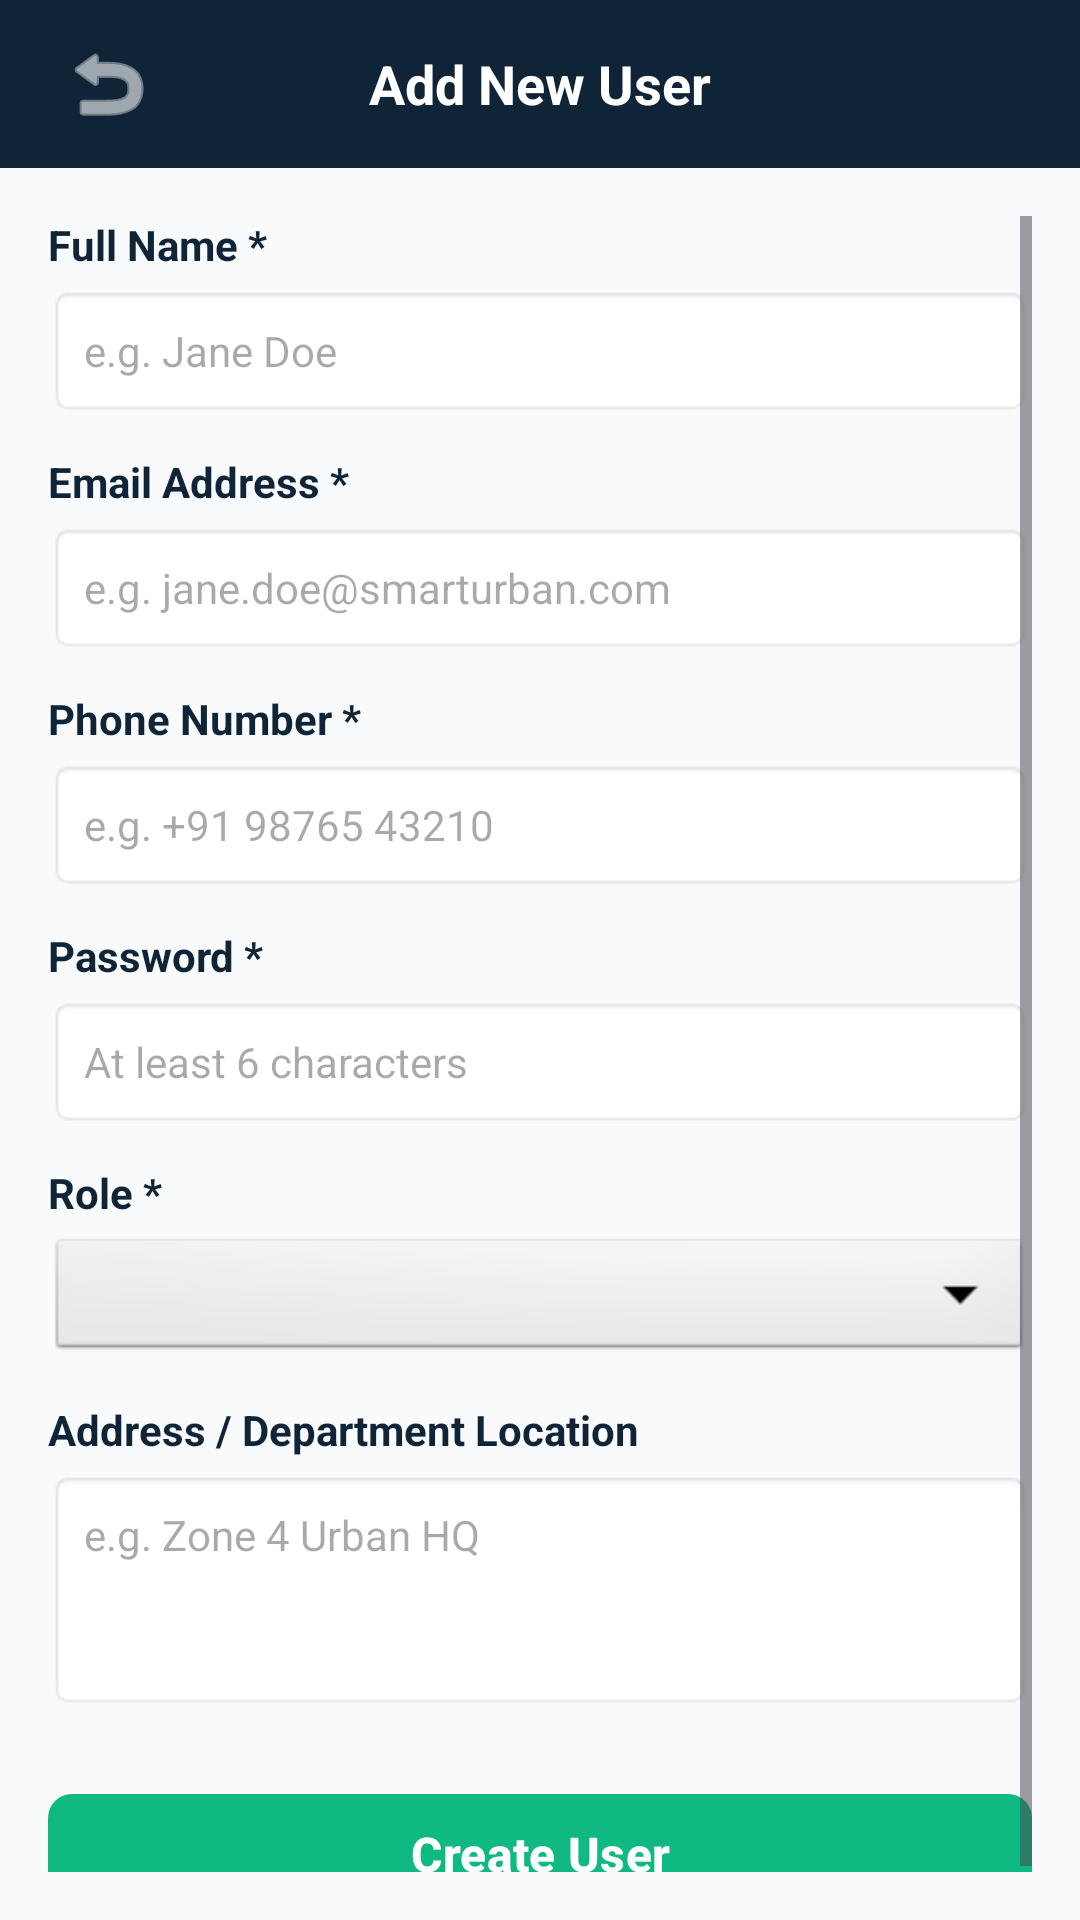

Screen size 1080px×1920px. Icon name, then its box in pixels as BBox(x1, y1, x2, y2):
Back: BBox(75, 53, 144, 116)
